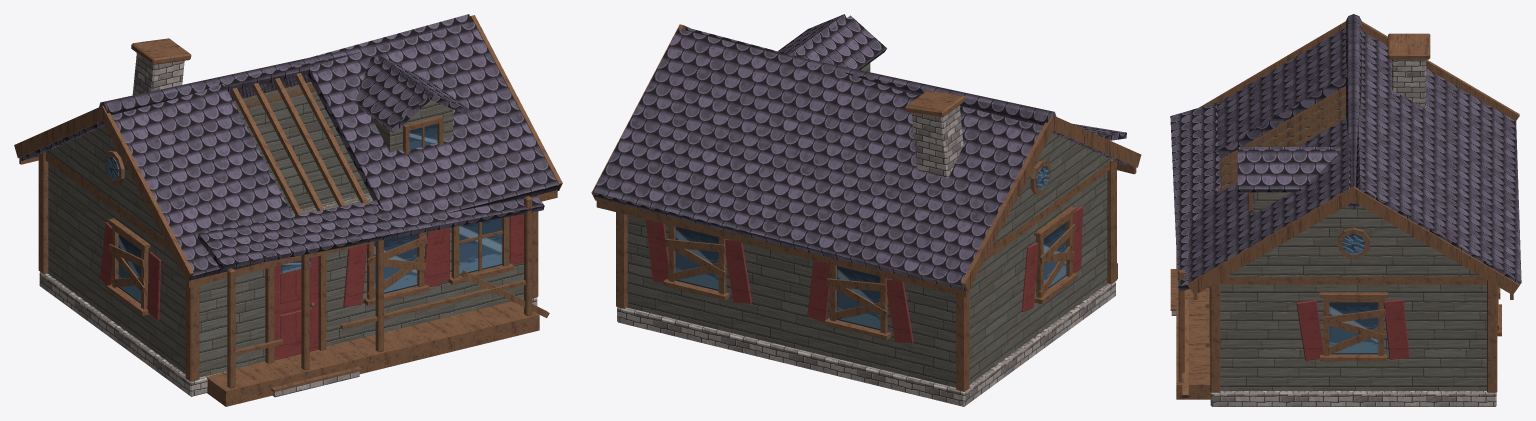
The model's file is house_haunted.glb.
3 views of the same model, side by side, from view 1: azimuth 30°, elevation 25°; view 2: azimuth 150°, elevation 25°; view 3: azimuth 270°, elevation 25° (orthographic). The views are drawn at different scales.
Visible parts, largest first — view 1: House; view 2: House; view 3: House.
Boxes of the visible parts, <box> form: House: <box>14,14,562,406</box>; House: <box>591,14,1141,406</box>; House: <box>1170,14,1521,406</box>.
Bounding box in the file's own units: 8.79 × 5.76 × 7.61.
Materials: 4 (4 with a texture image).
